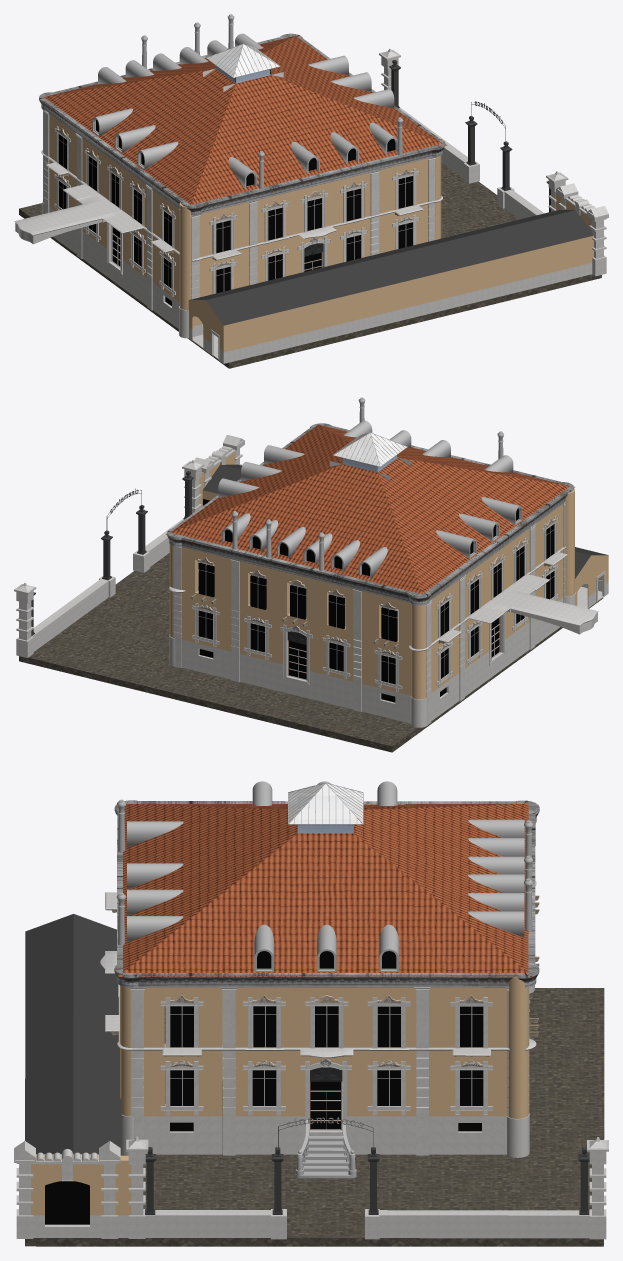
File: cinemateca.fbx
3 renders of one model, top to bottom at view 1: azimuth 30°, elevation 25°; view 2: azimuth 150°, elevation 25°; view 3: azimuth 270°, elevation 25°, orthographic. The views are drawn at different scales.
Visible parts, largest first — view 1: Telhado, Corredor_Lateral, Paredes004, Paredes002, Varandas, Aguas_Furtadas, Chao_Rua, Friso, Portao, Colunas002, Colunas001, Claraboia_Vidro (+7 smaller); view 2: Telhado, Chao_Rua, Paredes006, Paredes002, Aguas_Furtadas, Friso, Portao, Varandas, Colunas003, Colunas001, Corredor_Lateral, Janelas003 (+14 smaller); view 3: Telhado, Chao_Rua, Paredes, Portao, Corredor_Lateral, Aguas_Furtadas, Friso, Colunas, Varandas, Janelas, Paredes006, Claraboia_Vidro (+17 smaller).
Part boxes in pixels (left/top/right/bottom): Telhado: left=44, top=36, right=447, bottom=208; Corredor_Lateral: left=188, top=210, right=593, bottom=363; Paredes004: left=179, top=158, right=428, bottom=310; Paredes002: left=43, top=111, right=179, bottom=328; Varandas: left=14, top=126, right=442, bottom=261; Aguas_Furtadas: left=92, top=33, right=397, bottom=188; Chao_Rua: left=19, top=162, right=601, bottom=368; Friso: left=39, top=33, right=445, bottom=215; Portao: left=379, top=48, right=608, bottom=276; Colunas002: left=179, top=157, right=436, bottom=338; Colunas001: left=42, top=110, right=179, bottom=310; Claraboia_Vidro: left=207, top=44, right=279, bottom=77; Telhado: left=166, top=424, right=574, bottom=594; Chao_Rua: left=19, top=553, right=603, bottom=752; Paredes006: left=169, top=544, right=411, bottom=723; Paredes002: left=411, top=504, right=563, bottom=720; Aguas_Furtadas: left=218, top=420, right=522, bottom=578; Friso: left=167, top=423, right=574, bottom=605; Portao: left=14, top=435, right=244, bottom=657; Varandas: left=169, top=516, right=598, bottom=651; Colunas003: left=169, top=546, right=411, bottom=711; Colunas001: left=410, top=502, right=565, bottom=727; Corredor_Lateral: left=202, top=464, right=608, bottom=608; Janelas003: left=192, top=603, right=402, bottom=691; Telhado: left=118, top=804, right=533, bottom=976; Chao_Rua: left=25, top=988, right=604, bottom=1246; Paredes: left=120, top=986, right=507, bottom=1154; Portao: left=14, top=1136, right=608, bottom=1239; Corredor_Lateral: left=25, top=914, right=121, bottom=1155; Aguas_Furtadas: left=127, top=781, right=524, bottom=971; Friso: left=114, top=800, right=539, bottom=987; Colunas: left=121, top=987, right=509, bottom=1155; Varandas: left=100, top=881, right=536, bottom=1058; Janelas: left=160, top=1061, right=492, bottom=1115; Paredes006: left=507, top=977, right=528, bottom=1118; Claraboia_Vidro: left=288, top=783, right=362, bottom=823.
Size of the model in its own units: 3765 by 1632 by 2968.
